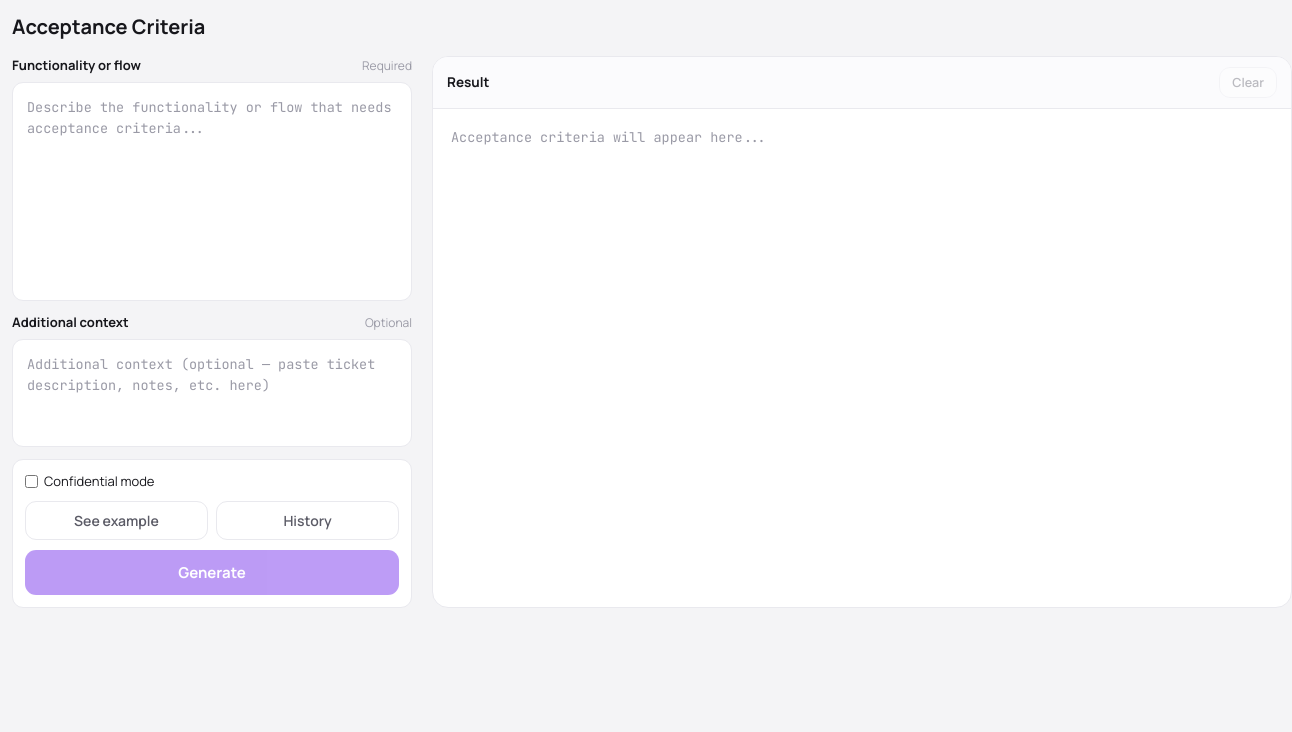
Scenario: API errors render translated › shows the English error.apiKey text when the API returns 401
Replace the text in the text box labelled "Functionality or flow Required" with "some requirement" at [212, 191], box [12, 82, 412, 301]
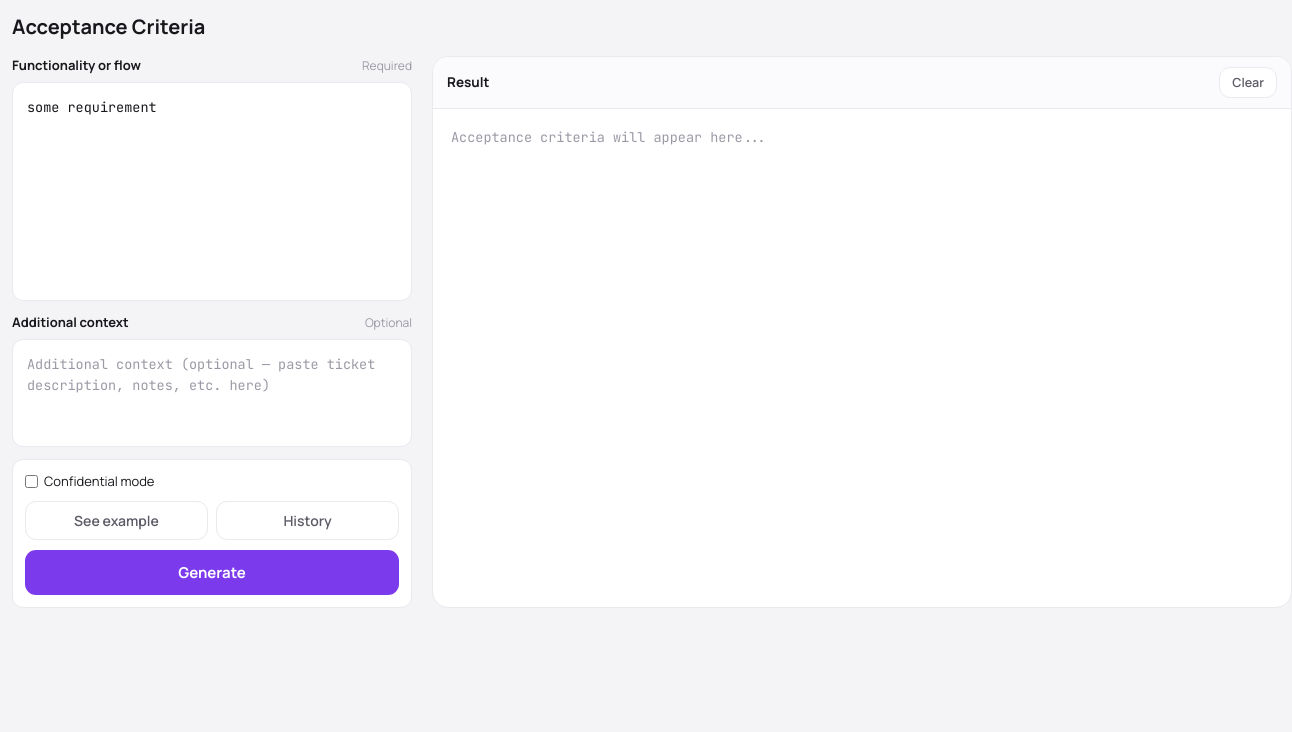
Click the button "Generate" at [212, 572], box [25, 550, 399, 595]
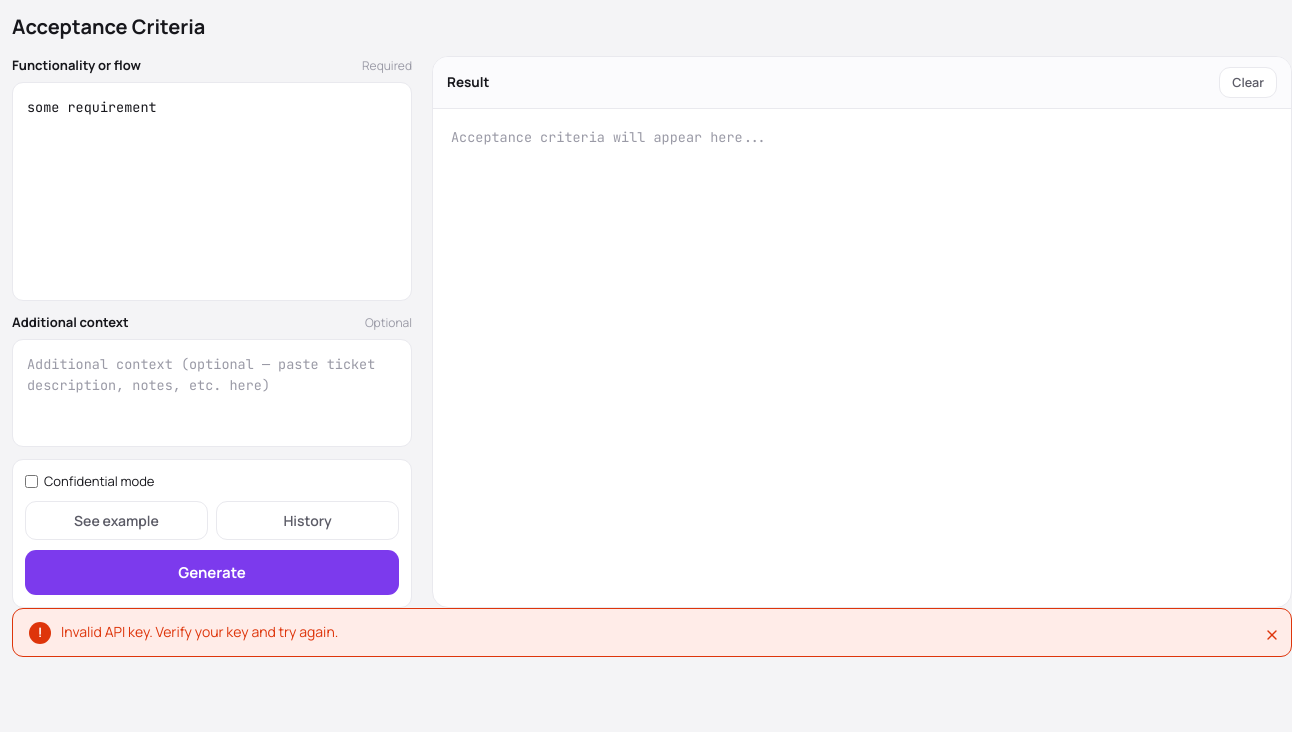
Expected: the text "Invalid API key. Verify your key and try again." is shown, [61, 622, 338, 641]
